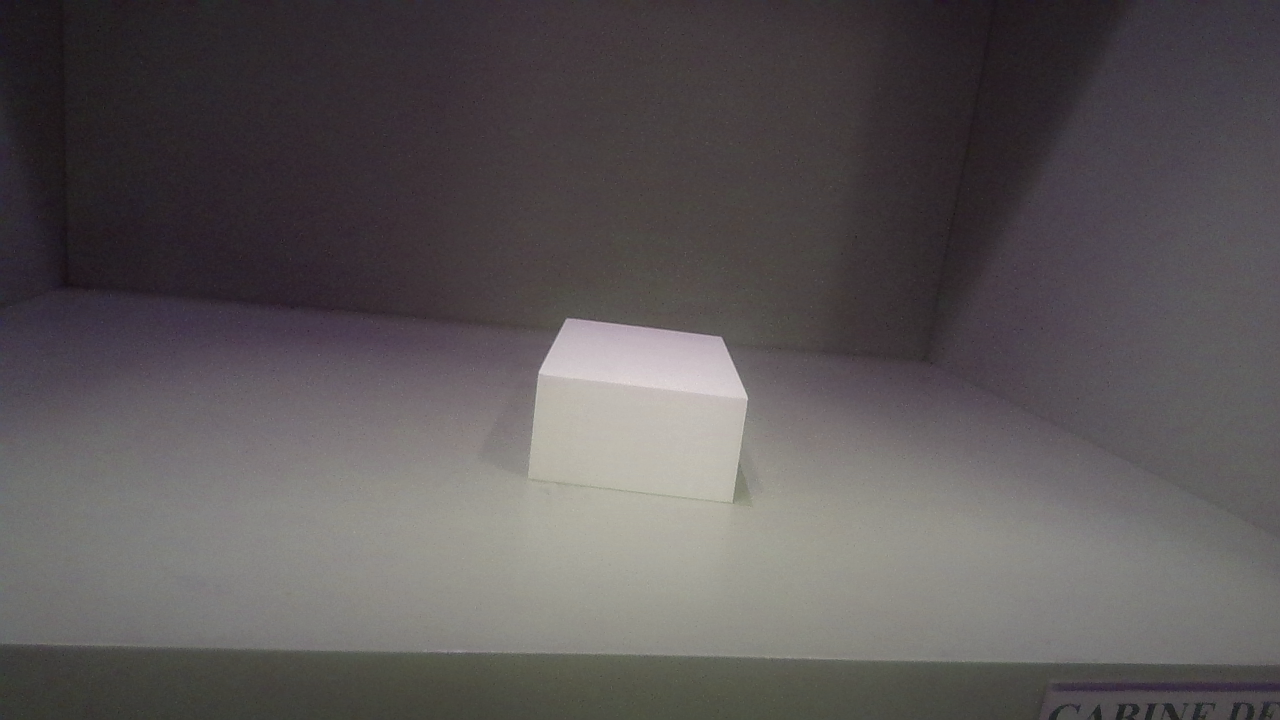Retangulo: (528, 318, 747, 502)
